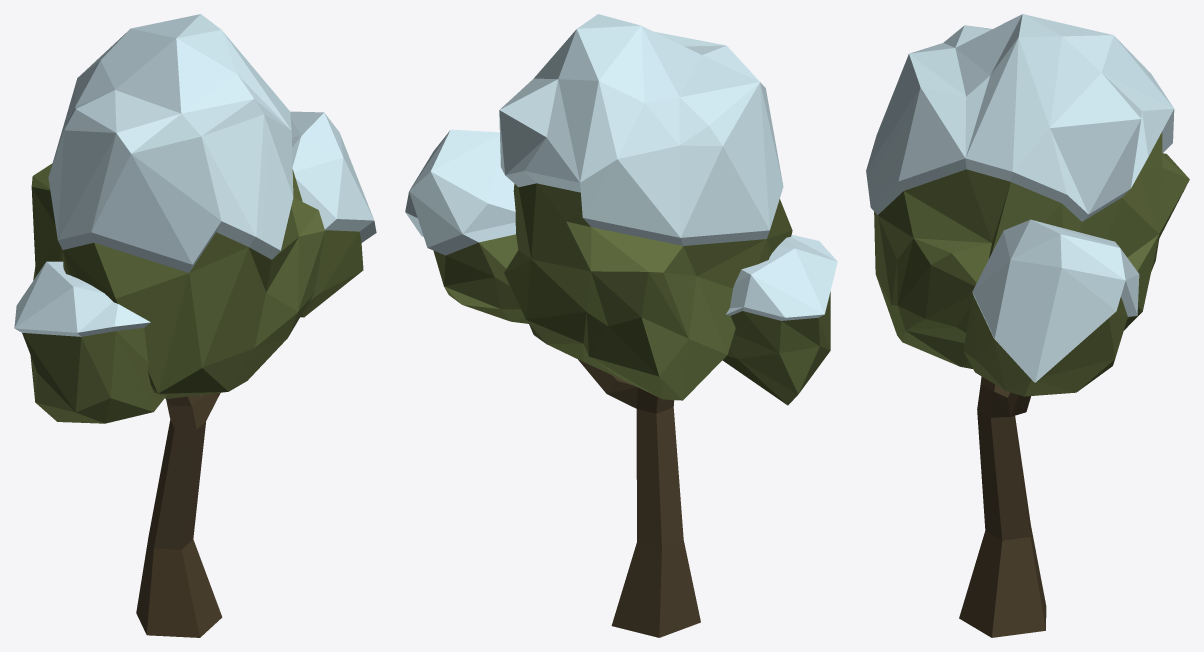
The model's file is adventure_SM_Env_Tree_04_Snow.gltf.
The picture shows the model from 3 angles, left to right: view 1: azimuth 30°, elevation 25°; view 2: azimuth 150°, elevation 25°; view 3: azimuth 270°, elevation 25°; orthographic projection. The views are drawn at different scales.
Visible parts, largest first — view 1: SM_Env_Tree_04_Snow; view 2: SM_Env_Tree_04_Snow; view 3: SM_Env_Tree_04_Snow.
Boxes of the visible parts, box(x1,y1,x2,y2) form: SM_Env_Tree_04_Snow: box(14, 14, 376, 637); SM_Env_Tree_04_Snow: box(405, 14, 837, 637); SM_Env_Tree_04_Snow: box(866, 14, 1189, 637).
Bounding box in the file's own units: 3.95 × 5.78 × 2.79.
Materials: 1 (1 with a texture image).
